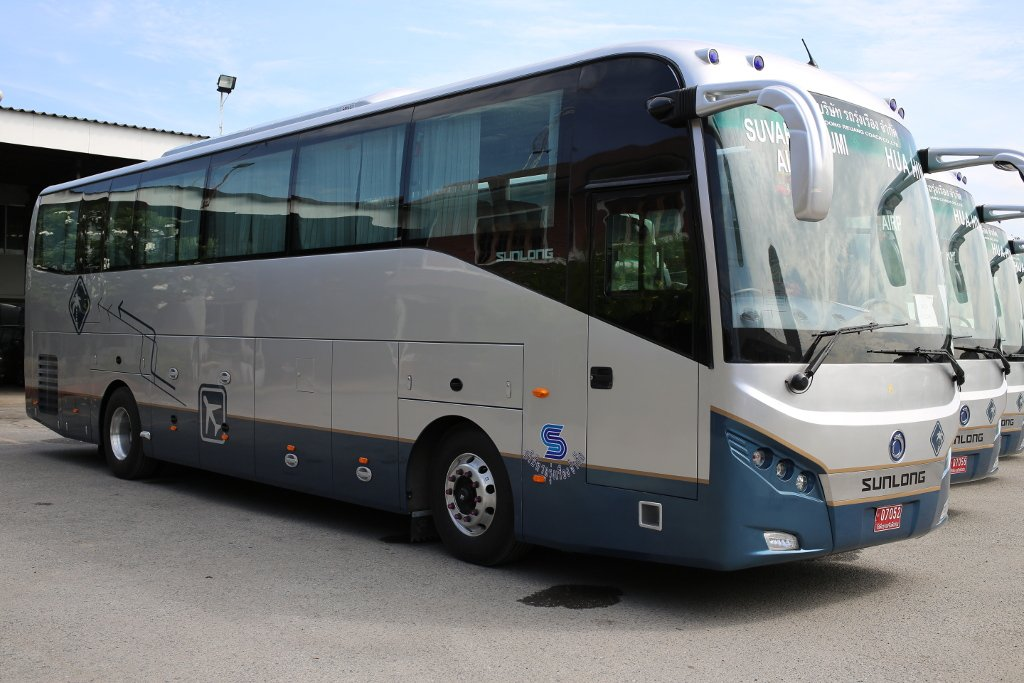bus: (23, 38, 950, 572)
